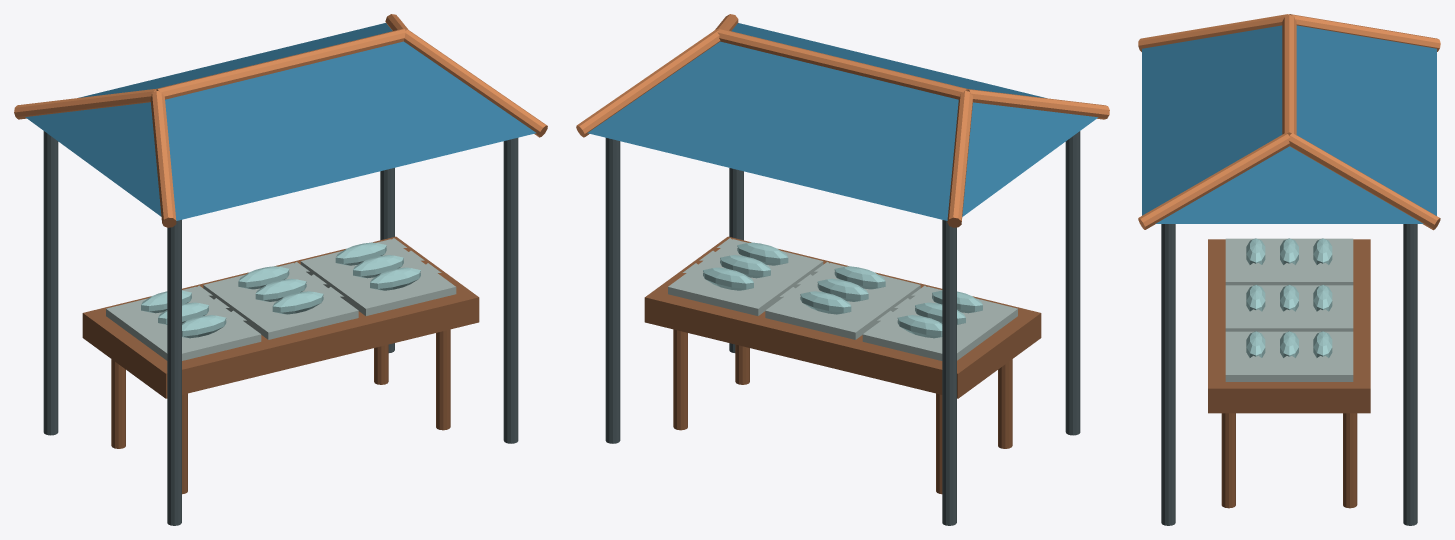
Rendered from 052_fish_stall.glb.
3 views of the same model, side by side, from view 1: azimuth 30°, elevation 25°; view 2: azimuth 150°, elevation 25°; view 3: azimuth 270°, elevation 25° (orthographic). The views are drawn at different scales.
Visible parts, largest first — view 1: Fish stall; view 2: Fish stall; view 3: Fish stall.
Boxes of the visible parts, <box> form: Fish stall: <box>14,14,547,525</box>; Fish stall: <box>576,14,1109,525</box>; Fish stall: <box>1138,14,1440,525</box>.
Size of the model in its own units: 2.73 by 2.56 by 1.9.
